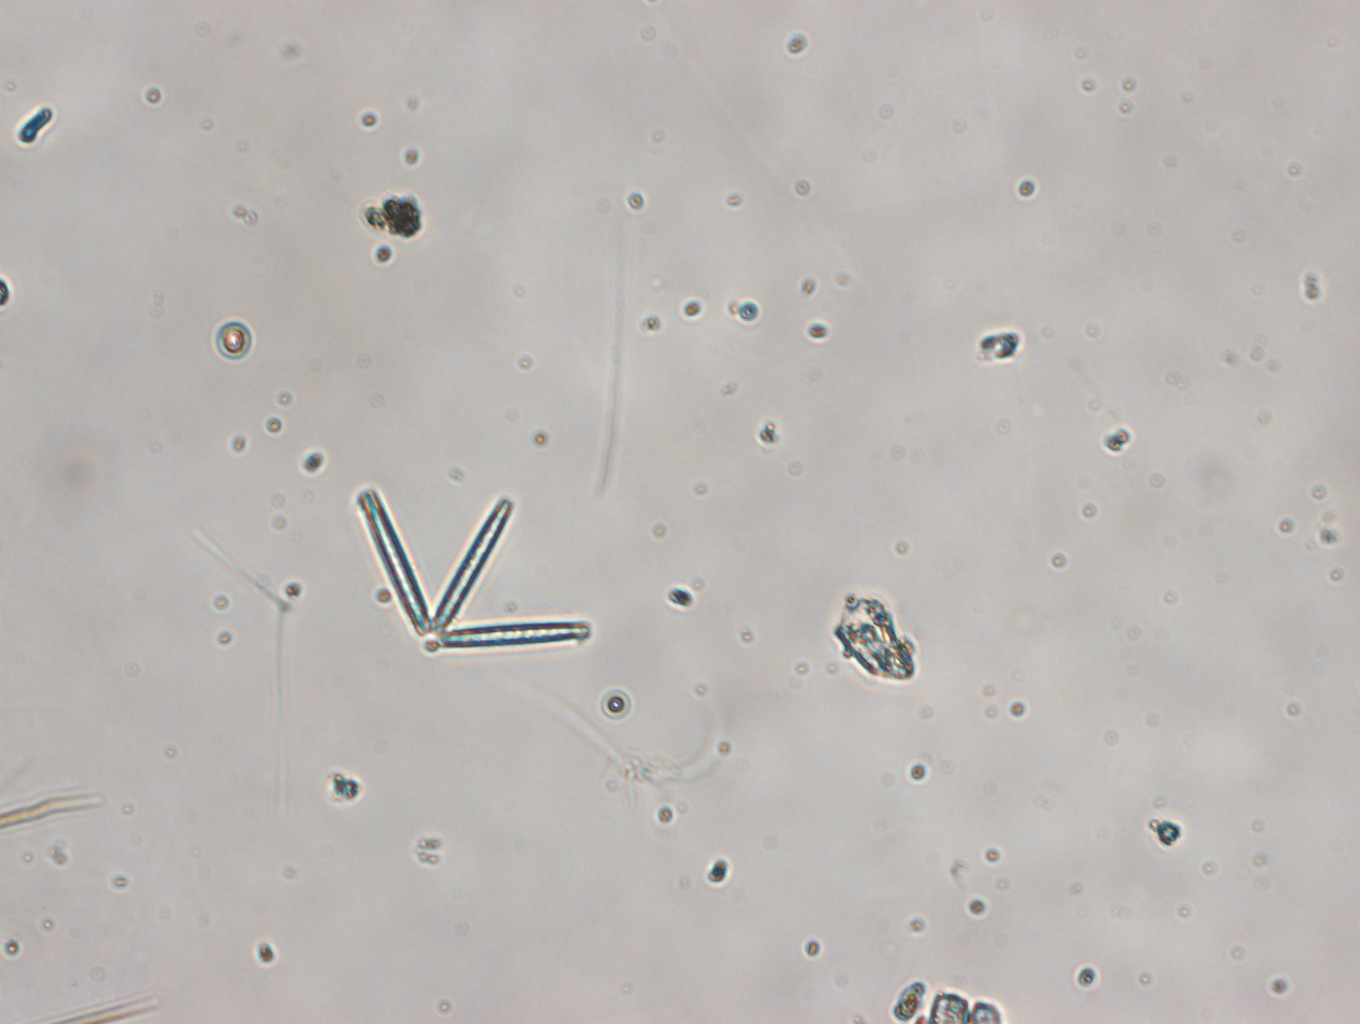thalassionema nitzschioides: (357, 481, 591, 652)
